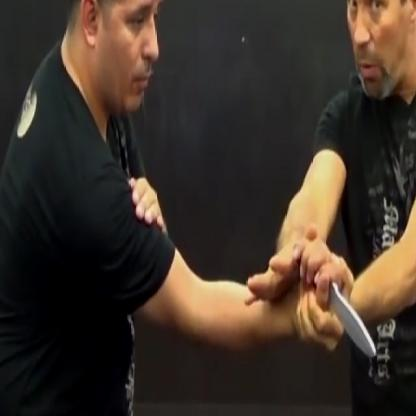knife: (302, 235, 382, 366)
